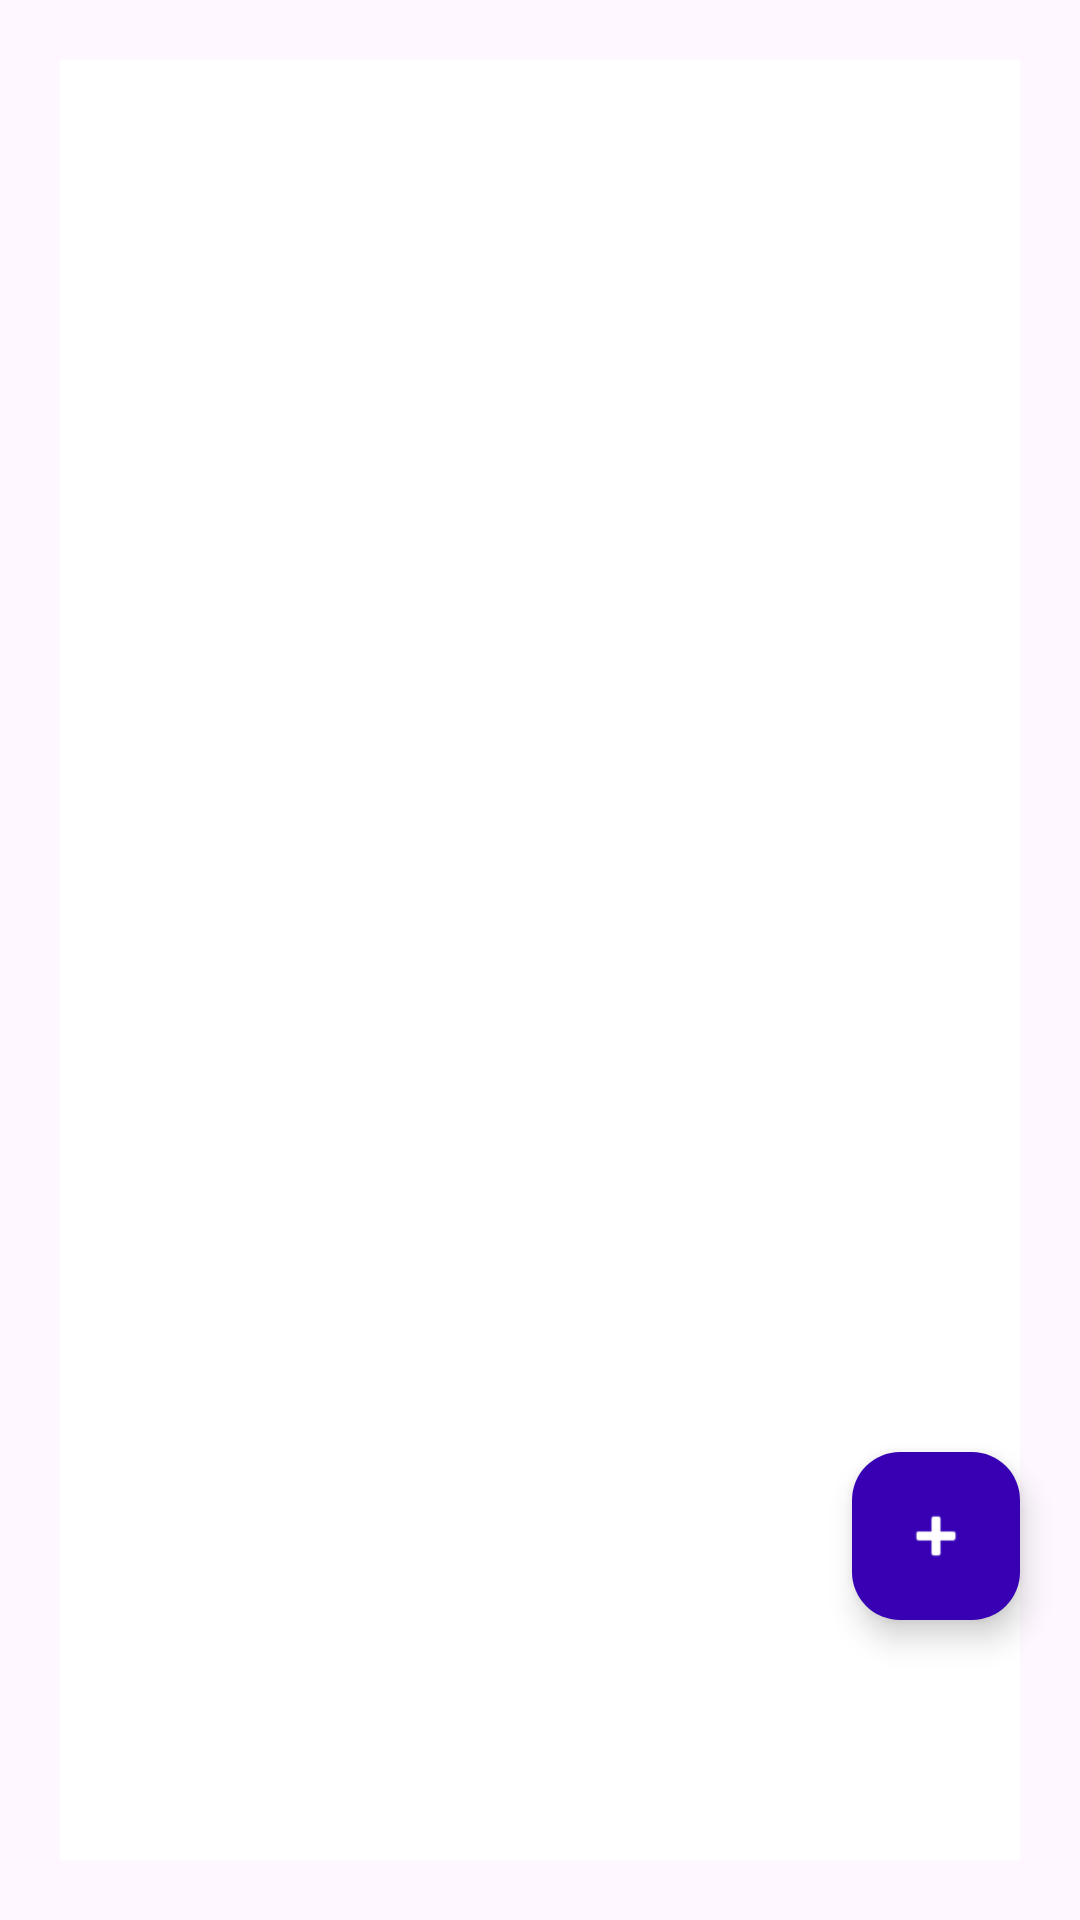

Icon bounding boxes for this 1080 x 1920 phone screenshot, format (x1, y1, x2, y2):
add: (852, 1452, 1020, 1620)
